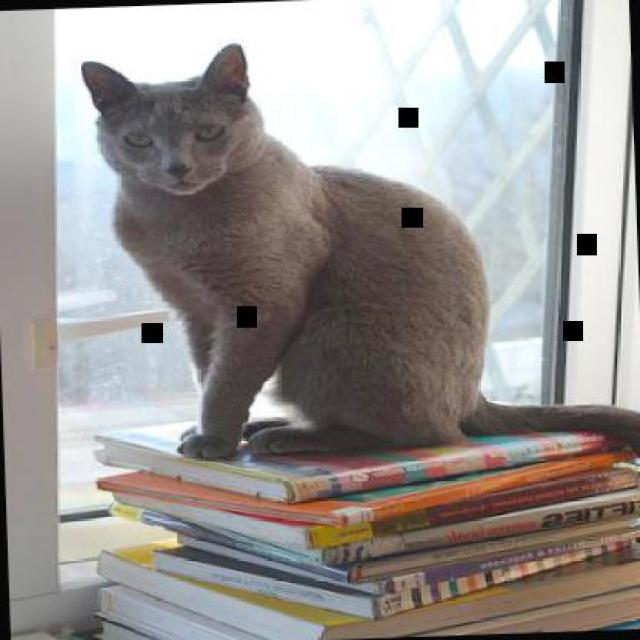cat: (79, 28, 638, 503)
